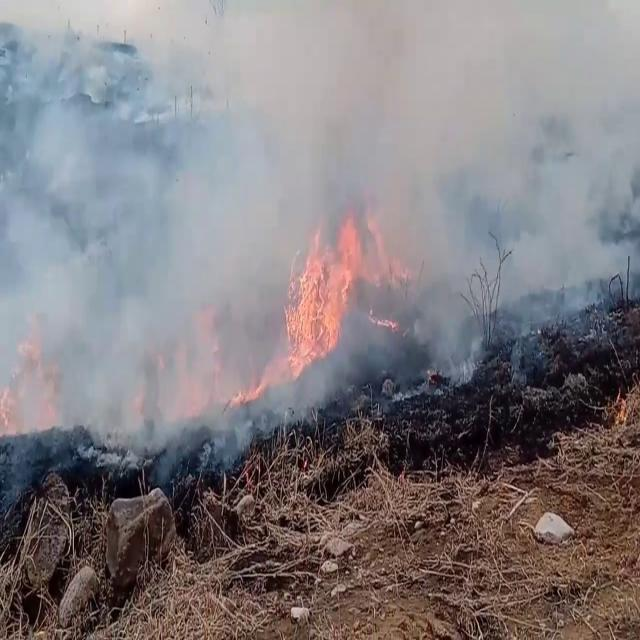Fire: (282, 208, 366, 374)
Smoke: (1, 1, 639, 416)
